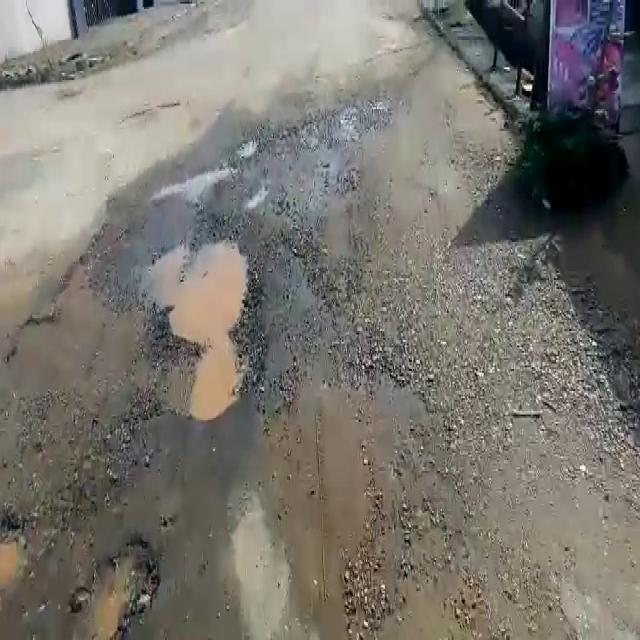Pothole: (140, 237, 250, 423), (84, 534, 162, 636)
